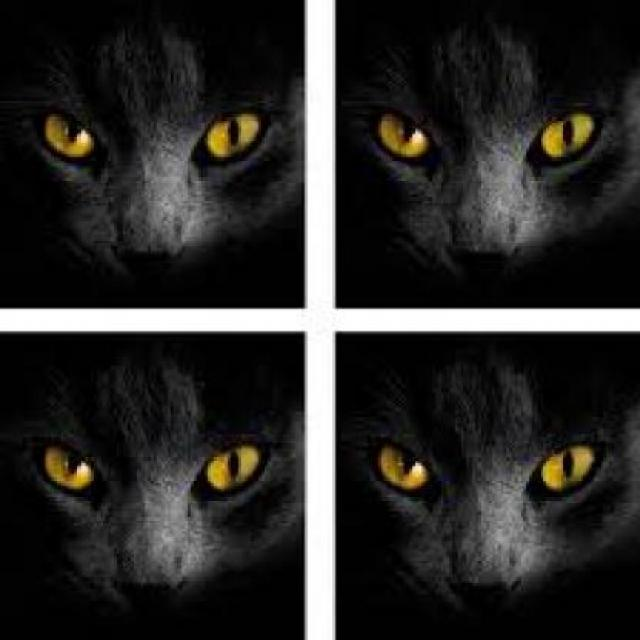animals: (20, 363, 292, 620), (360, 372, 632, 608), (36, 62, 293, 275), (372, 59, 623, 272)
